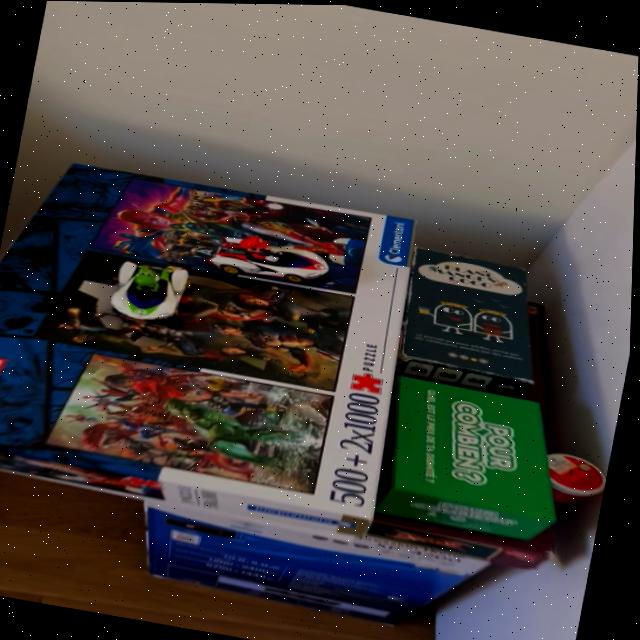mario: (203, 223, 343, 292)
yoshi: (100, 255, 199, 336)
